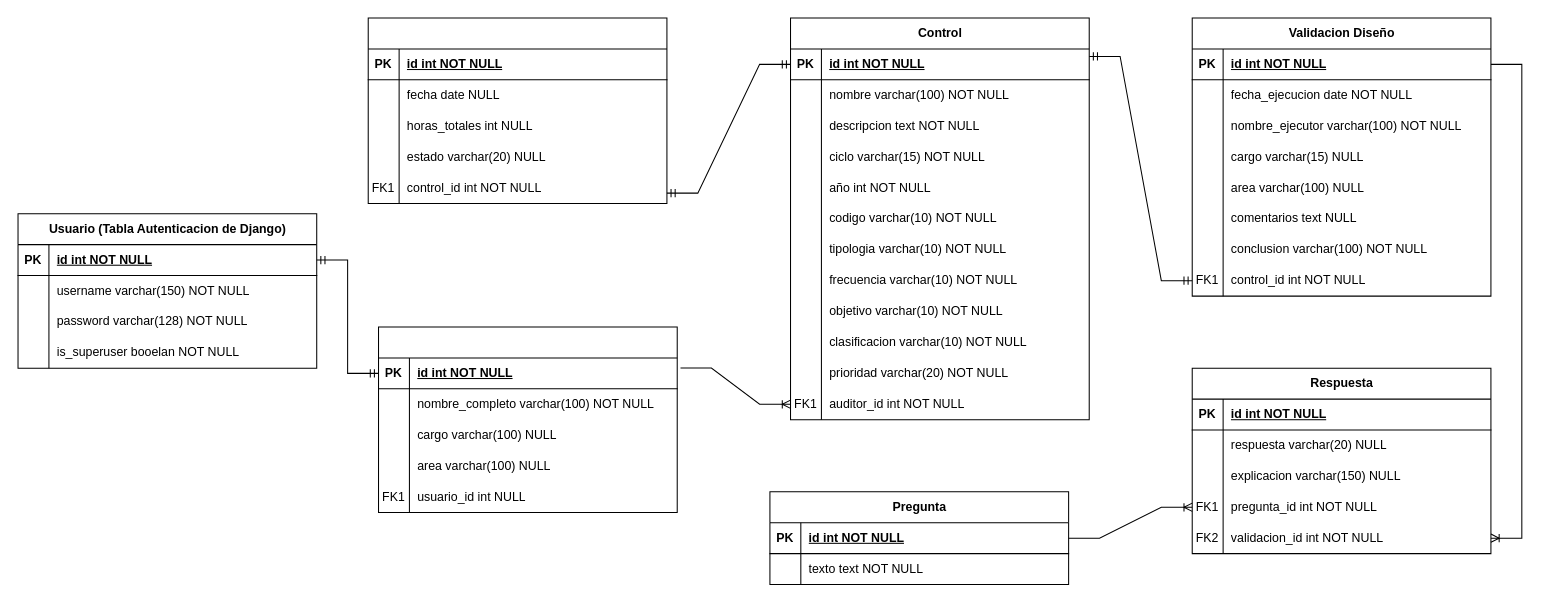
Image size: 1548x603. Some labels were removed from this diagram. The shapes that lost their labels are listed below. From the top down, each one's box as (x1, y1, x2, y2) in pixels, then its label:
(367, 17, 667, 203): Encabezado
(377, 326, 677, 512): Auditor
